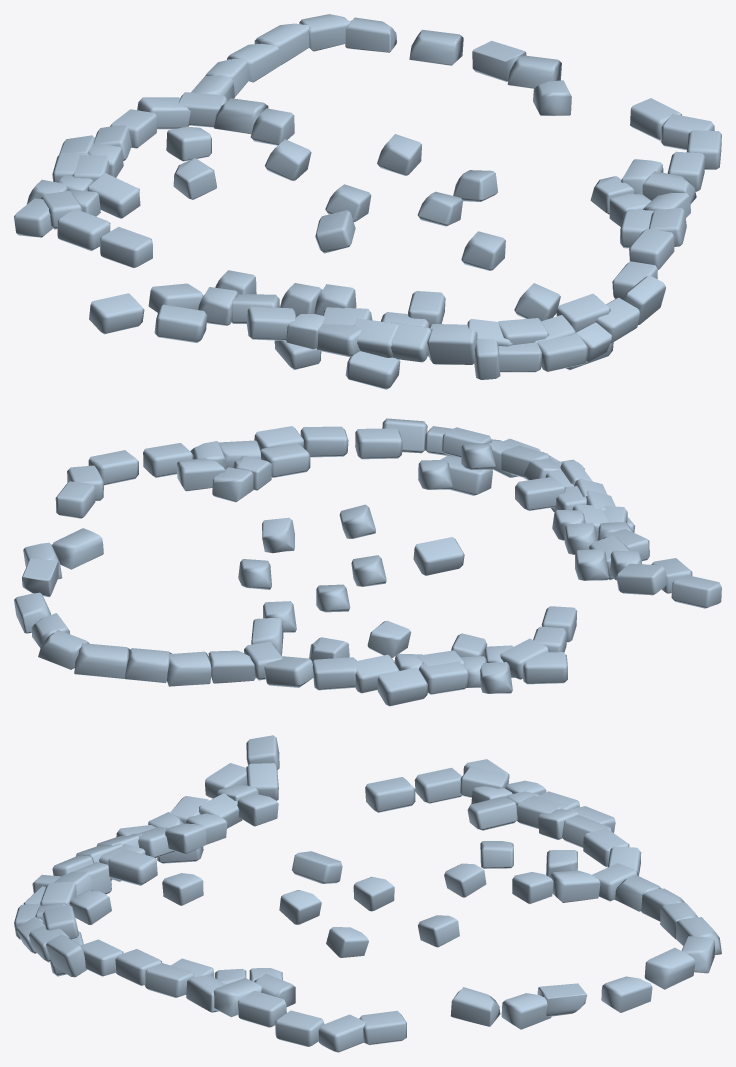
Rendered from Floor_Break_05D_Lod0.fbx.
3 views of the same model, one above another, from view 1: azimuth 30°, elevation 25°; view 2: azimuth 150°, elevation 25°; view 3: azimuth 270°, elevation 25° (orthographic). The views are drawn at different scales.
Parts seen in each view (by area): view 1: Floor_Break_05D_Lod0; view 2: Floor_Break_05D_Lod0; view 3: Floor_Break_05D_Lod0.
Boxes of the visible parts, x1,y1,x2,y2 form: Floor_Break_05D_Lod0: (14,14,721,389); Floor_Break_05D_Lod0: (14,418,721,706); Floor_Break_05D_Lod0: (14,735,721,1052).
Bounding box in the file's own units: 818 × 99.51 × 825.
